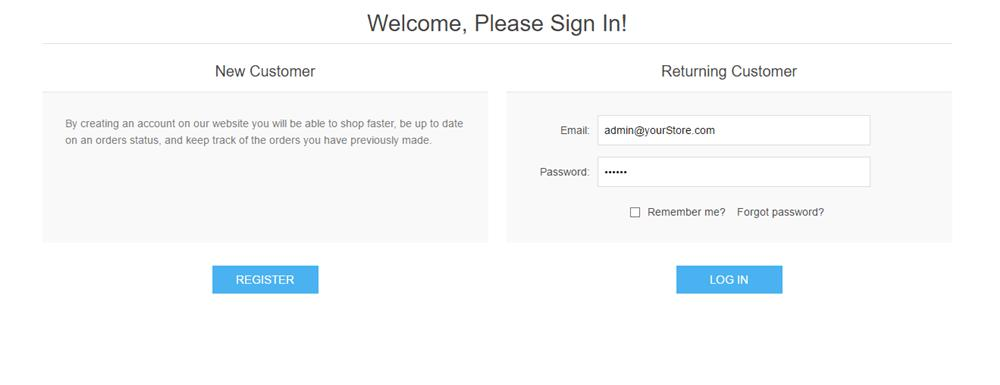button: (655, 254, 797, 303)
checkbox: (626, 203, 734, 231)
textbox: (592, 115, 877, 152), (594, 155, 879, 191)
